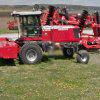Tractor: (13, 6, 100, 71)
